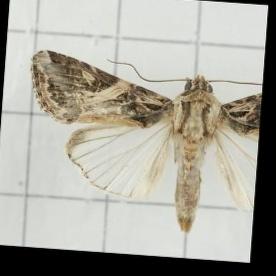Spodoptera litura: (24, 55, 258, 229)
